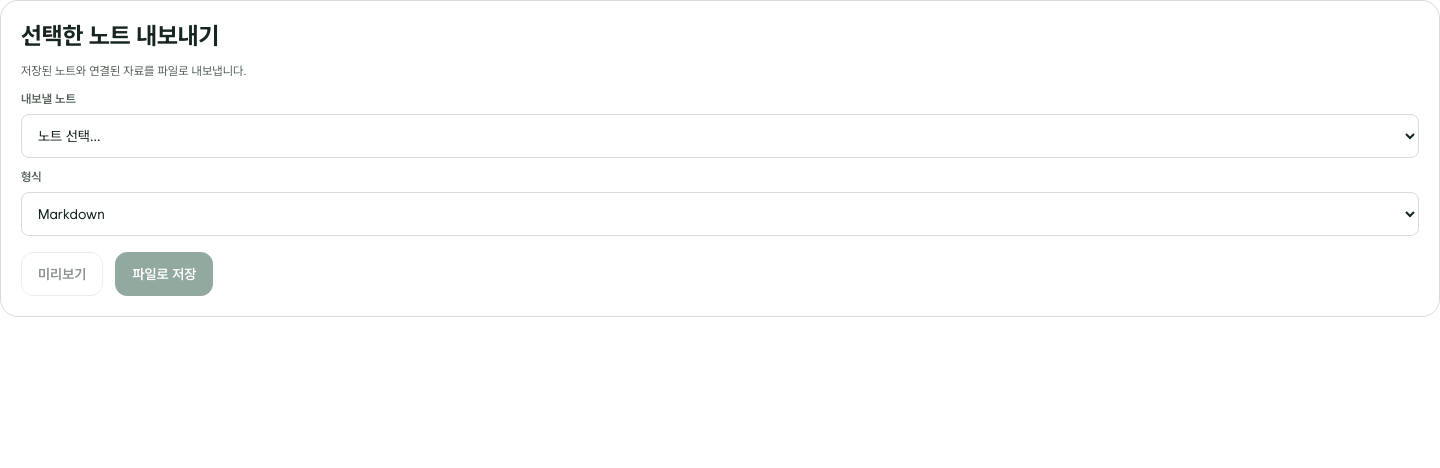
Test: ExportPanel › previews the selected note before allowing a native export
Select "Canonical note" in the dropdown labelled "내보낼 노트" at [720, 136], box 21,114 -> 1419,158
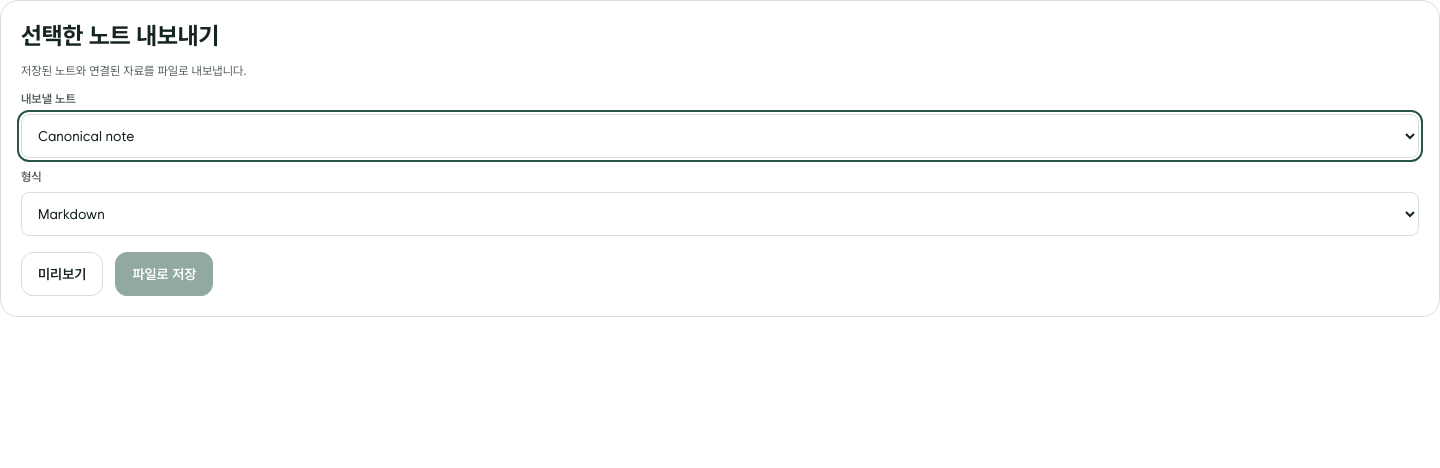
Expected: the button "파일로 저장" is disabled, 115,252 -> 213,296
Now the button "미리보기" is enabled
Click the button "미리보기".
click(62, 274)  # box 21,252 -> 103,296
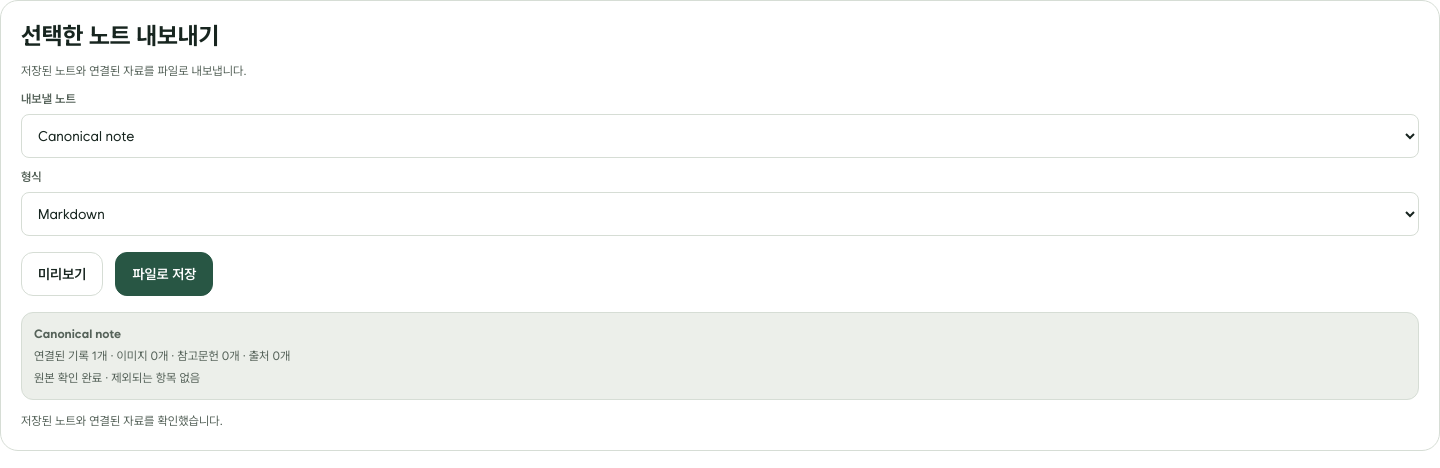
Now the text "Canonical note" is shown, box 34,327 -> 121,341
Now the text "원본 확인 완료 · 제외되는 항목 없음" is shown, box 34,371 -> 200,385
Now the button "파일로 저장" is enabled, box 115,252 -> 213,296
